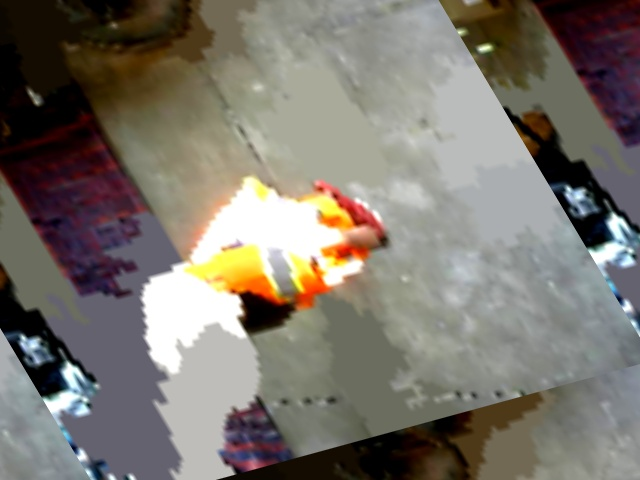two: (131, 292, 182, 330)
